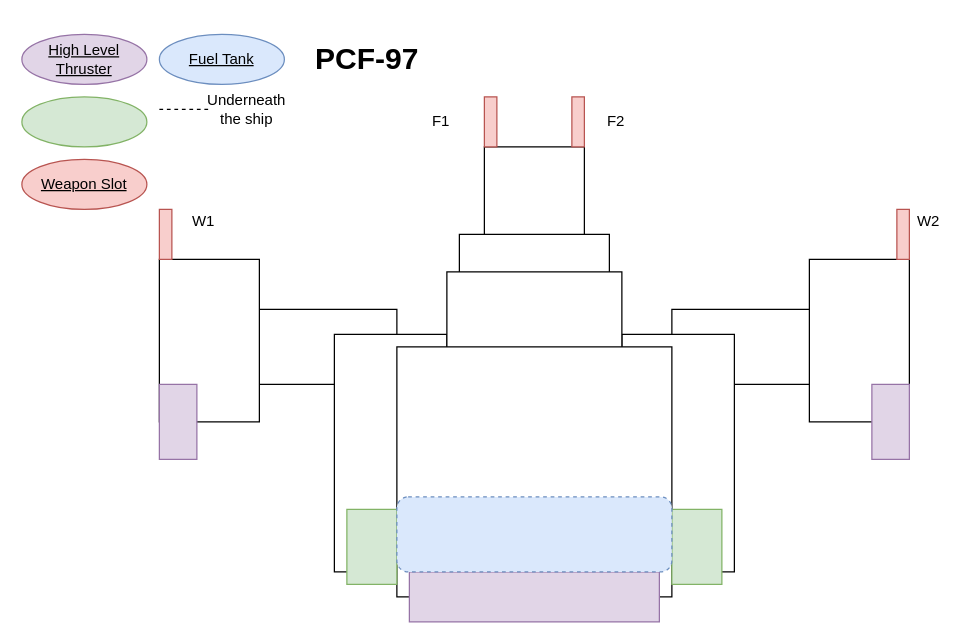
The diagram is 969 pixels wide and 644 high, and some of its shapes have lost their labels. The centre of each missing label's shape, as x and y in pixels:
Low Level Thruster: point 84,121
X2 High Level Thrusters: point 533,596
